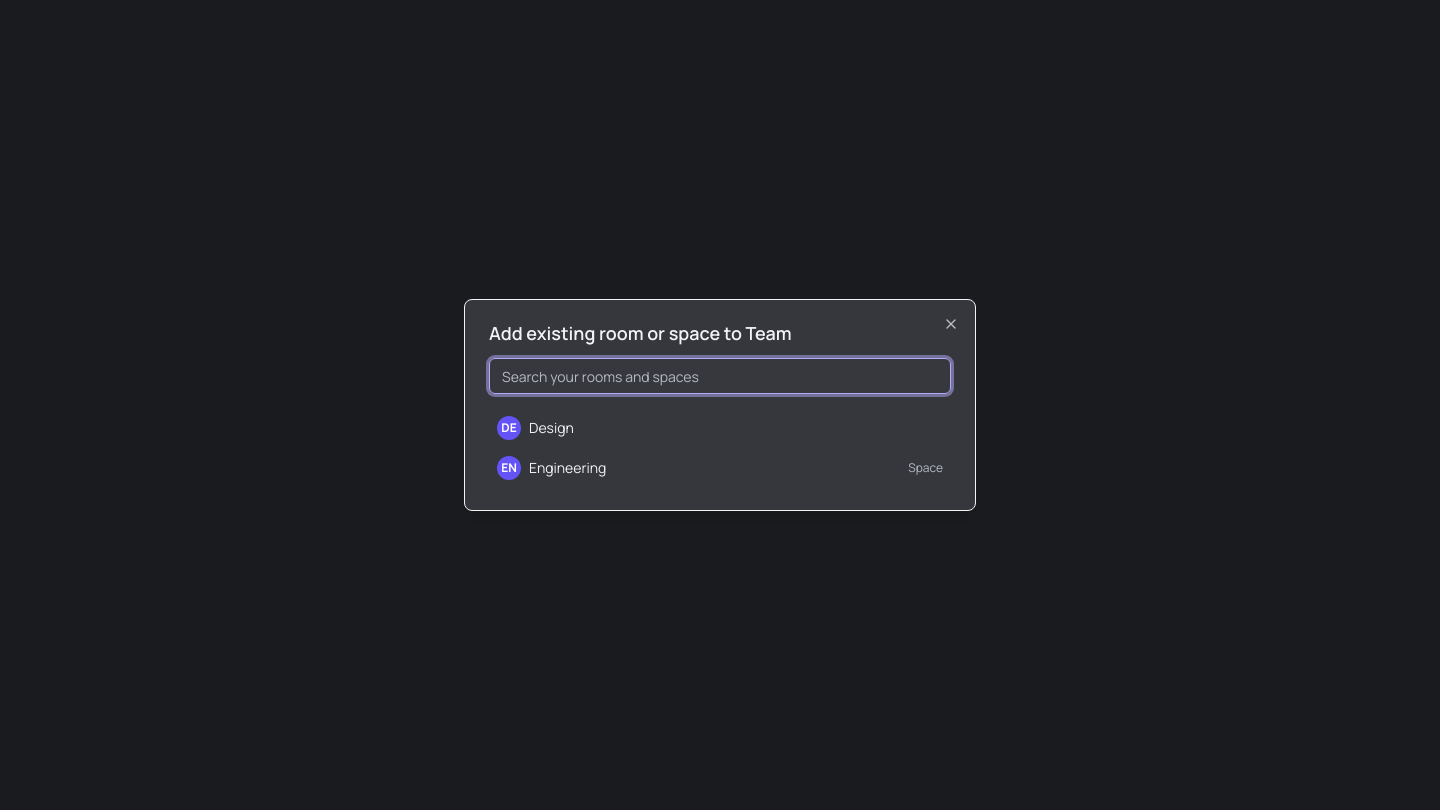
Test: AddExistingToSpaceDialog › shows an error and keeps the dialog open on failure
Step 1. Click the button "DE Design" → (551, 428), box [489,410,951,446]
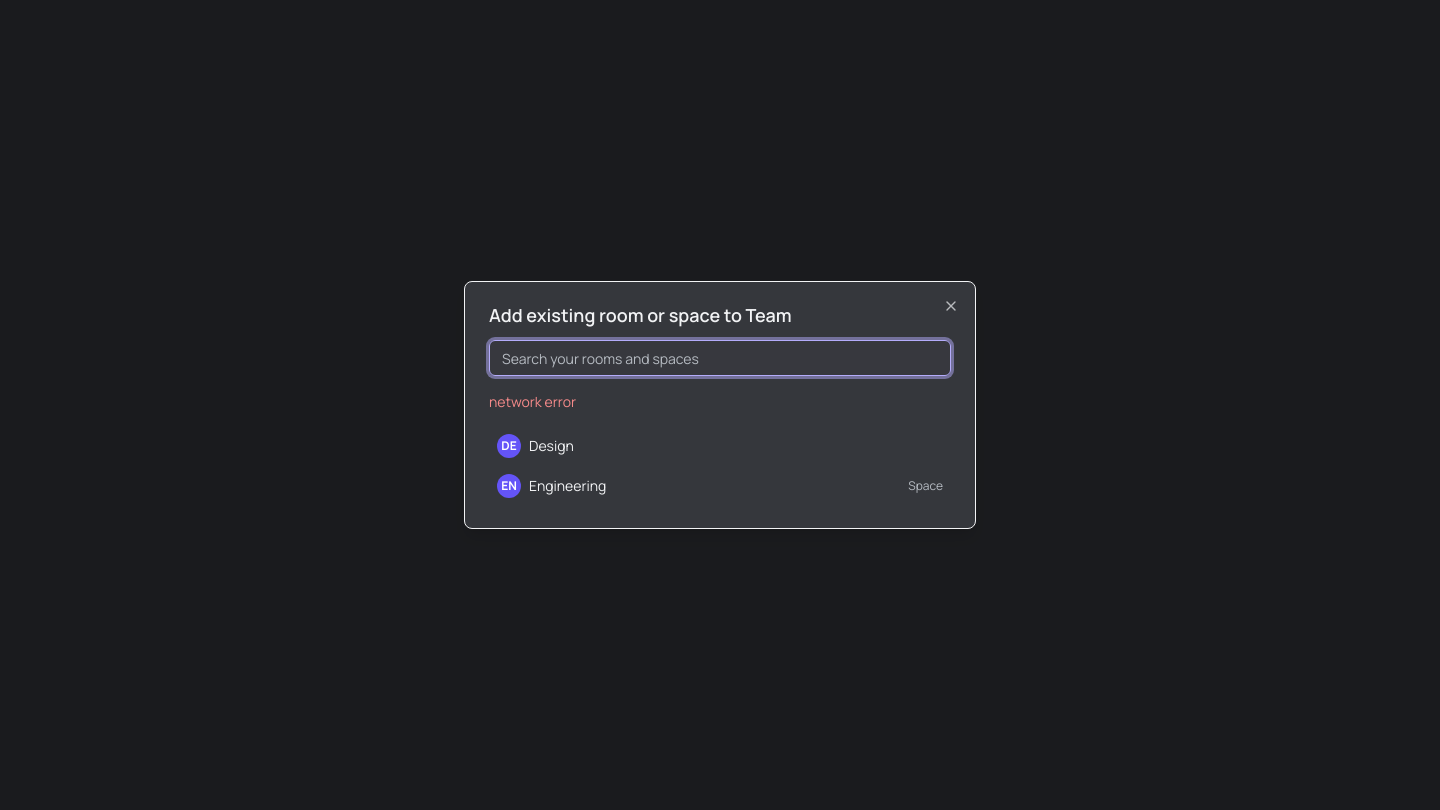
Expected: the message reads "network error", [489,392,576,411]
